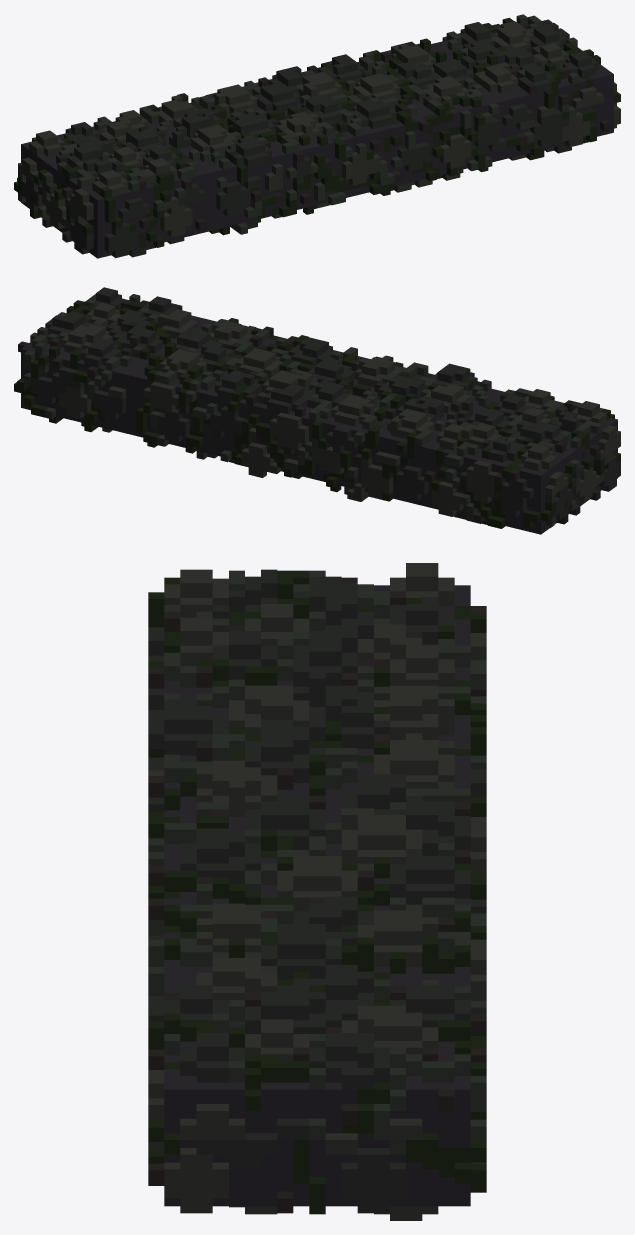
Rendered from Big_Platform.glb.
3 views of the same model, one above another, from view 1: azimuth 30°, elevation 25°; view 2: azimuth 150°, elevation 25°; view 3: azimuth 270°, elevation 25° (orthographic). The views are drawn at different scales.
Visible parts, largest first — view 1: Untitled.001, Untitled, Untitled.002; view 2: Untitled.001, Untitled, Untitled.002; view 3: Untitled.001, Untitled.002, Untitled.
Boxes of the visible parts, x1,y1,x2,y2 form: Untitled.001: (139,38,506,235); Untitled: (14,110,209,258); Untitled.002: (431,14,620,160); Untitled.001: (133,318,504,507); Untitled: (424,388,620,534); Untitled.002: (14,287,209,434); Untitled.001: (148,665,486,1001); Untitled.002: (148,958,486,1220); Untitled: (148,563,486,714).
Bounding box in the file's own units: 7.6 × 1.1 × 2.1.
3 materials, 3 textured.
